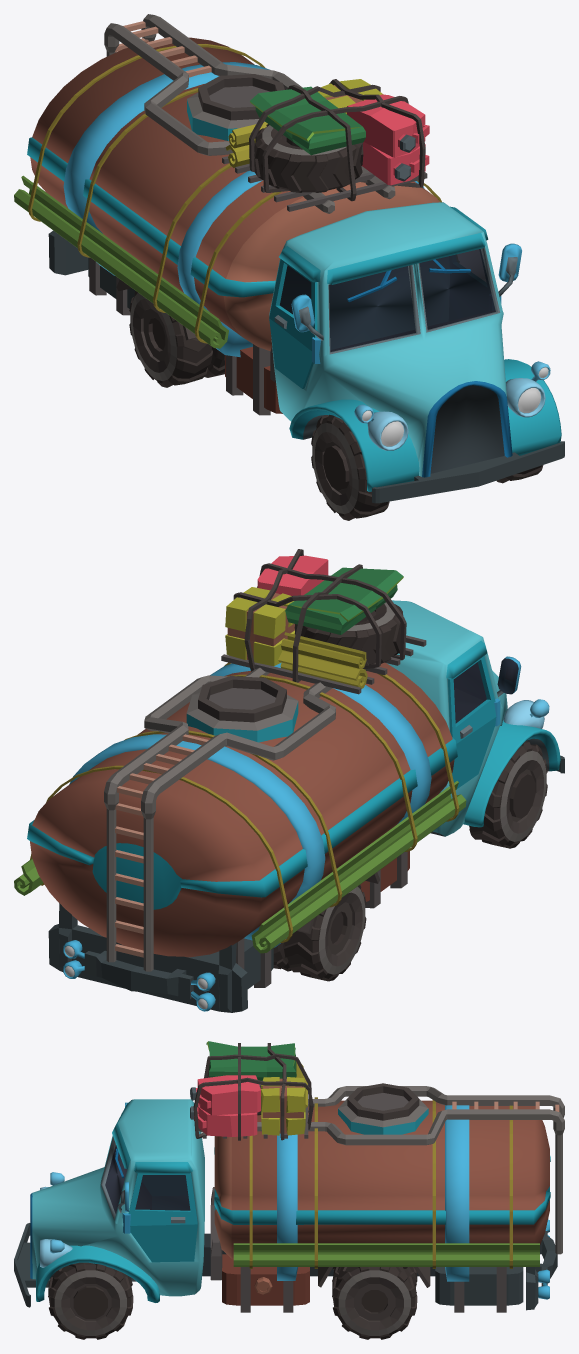
Rendered from KFB_Tourbus_WaterBowser.glb.
The picture shows the model from 3 angles, top to bottom: view 1: azimuth 30°, elevation 25°; view 2: azimuth 150°, elevation 25°; view 3: azimuth 270°, elevation 25°; orthographic projection. The views are drawn at different scales.
Visible parts, largest first — view 1: Cube, Cylinder.002, Cylinder.003, Cylinder.001, Vert.002, Cylinder.011, Gear.001, Gear, Gear.002, Cylinder, Cube.013, Cube.003 (+19 smaller); view 2: Cylinder.002, Cylinder.011, Cube.016, Cylinder.003, Vert.002, Cube, Cylinder, Gear.001, Gear, Cube.003, Cube.023, Cube.019 (+21 smaller); view 3: Cylinder.002, Cube, Vert.002, Cylinder.011, Cylinder.003, Gear.001, Gear.003, Cube.009, Cylinder, Cube.020, Cube.006, Cube.023 (+19 smaller).
Boxes of the visible parts, bbox=[...] form: Cube: bbox=[269, 202, 512, 477]; Cylinder.002: bbox=[27, 37, 440, 351]; Cylinder.003: bbox=[63, 62, 424, 357]; Cylinder.001: bbox=[289, 359, 561, 491]; Vert.002: bbox=[14, 175, 228, 348]; Cylinder.011: bbox=[104, 14, 395, 213]; Gear.001: bbox=[129, 291, 224, 387]; Gear: bbox=[311, 414, 389, 520]; Gear.002: bbox=[254, 124, 363, 192]; Cylinder: bbox=[187, 74, 284, 140]; Cube.013: bbox=[372, 441, 564, 503]; Cube.003: bbox=[269, 259, 317, 388]; Cylinder.002: bbox=[27, 662, 457, 957]; Cylinder.011: bbox=[104, 666, 335, 971]; Cube.016: bbox=[48, 903, 247, 1012]; Cylinder.003: bbox=[69, 662, 431, 947]; Vert.002: bbox=[14, 781, 466, 953]; Cube: bbox=[387, 600, 507, 836]; Cylinder: bbox=[186, 676, 298, 742]; Gear.001: bbox=[273, 884, 366, 981]; Gear: bbox=[469, 741, 547, 848]; Cube.003: bbox=[447, 656, 496, 788]; Cube.023: bbox=[285, 567, 403, 634]; Cube.019: bbox=[225, 587, 294, 665]; Cylinder.002: bbox=[214, 1100, 550, 1258]; Cube: bbox=[30, 1099, 204, 1296]; Vert.002: bbox=[233, 1243, 539, 1266]; Cylinder.011: bbox=[197, 1086, 564, 1254]; Cylinder.003: bbox=[277, 1105, 469, 1281]; Gear.001: bbox=[332, 1267, 417, 1339]; Gear.003: bbox=[48, 1262, 133, 1339]; Cube.009: bbox=[128, 1173, 197, 1262]; Cylinder: bbox=[338, 1083, 428, 1134]; Cube.020: bbox=[435, 1267, 523, 1305]; Cube.006: bbox=[222, 1254, 309, 1305]; Cube.023: bbox=[206, 1041, 296, 1080].
Size of the model in its own units: 5.84 by 6.76 by 13.55.
Materials: 4 (2 with a texture image).
